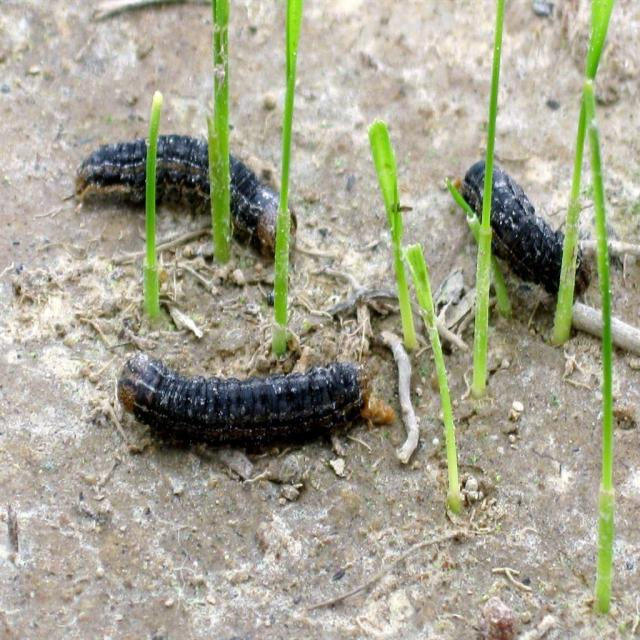army worm: (81, 131, 303, 268), (119, 355, 375, 439), (461, 156, 597, 308)
